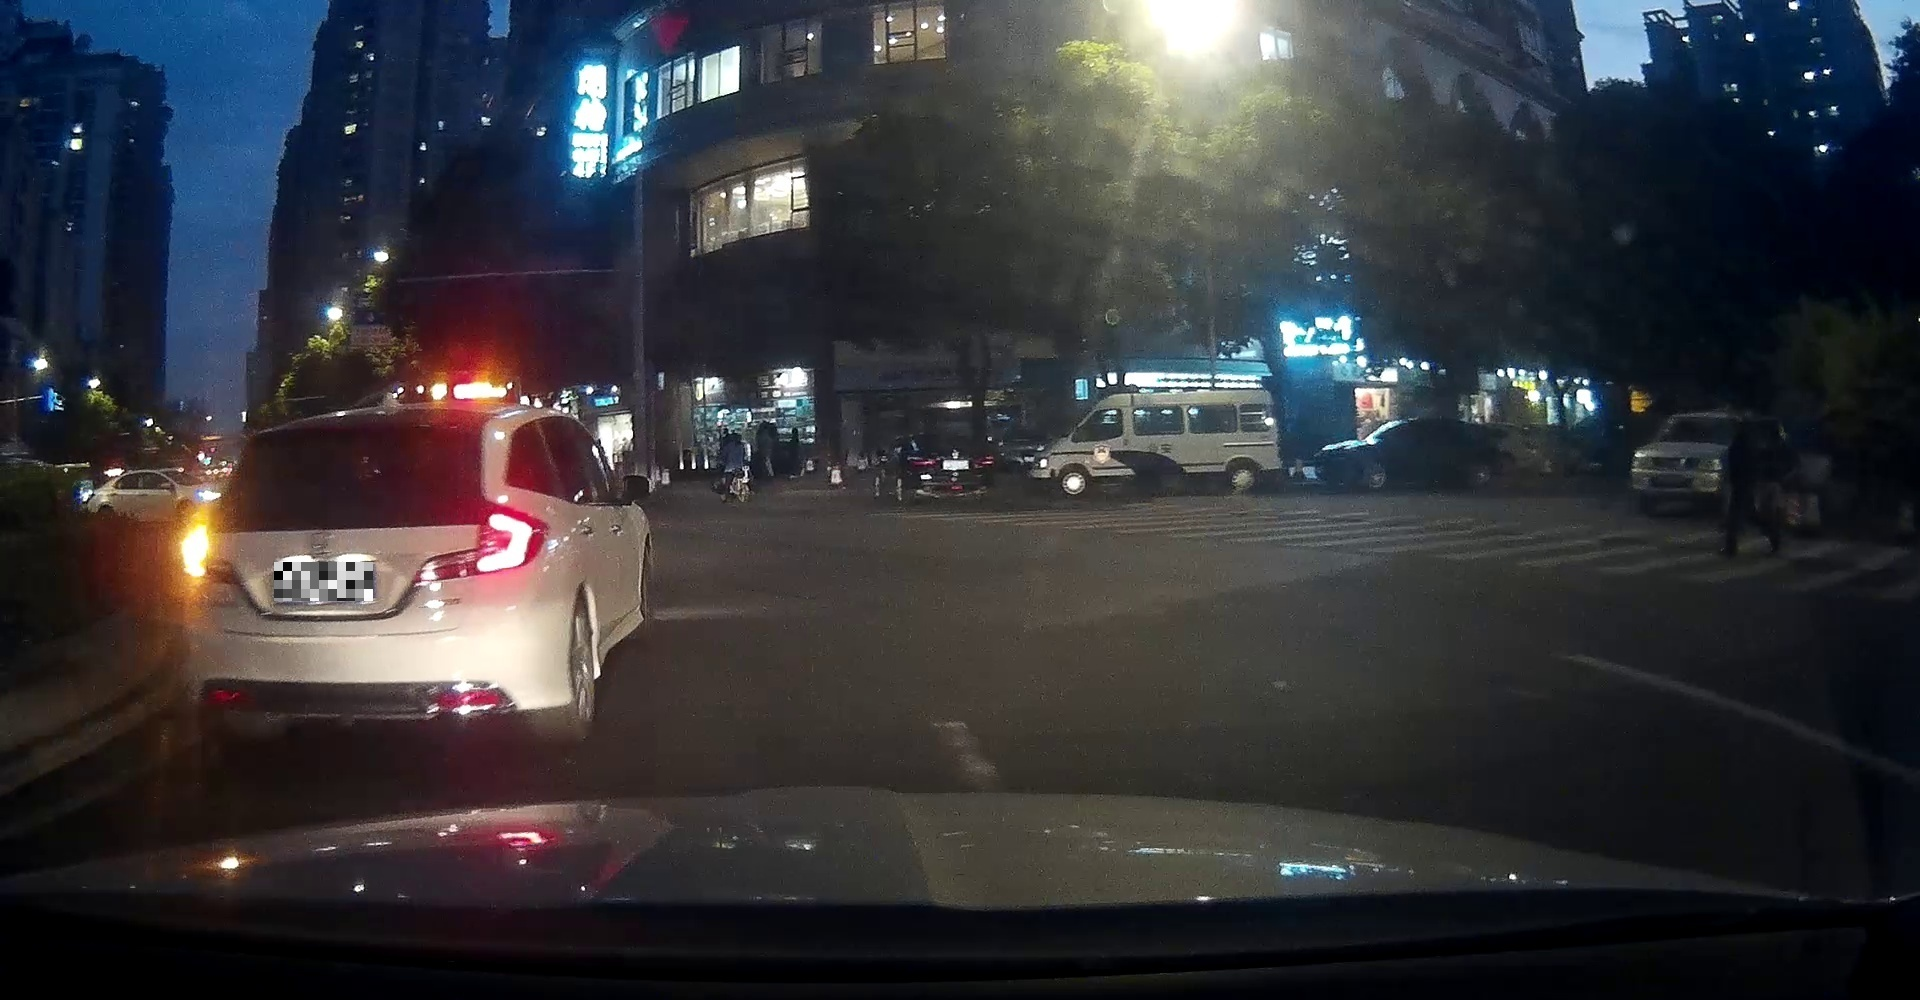L_light: (182, 524, 210, 576)
R_light: (472, 508, 546, 571)
T_light: (334, 429, 392, 442)
day-no: (178, 404, 552, 745)
plate_1: (274, 562, 373, 602)
